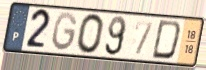2: (23, 8, 54, 51)
7: (133, 20, 153, 56)
9: (103, 14, 128, 58)
D: (150, 19, 183, 62)
G: (51, 10, 79, 53)
O: (75, 12, 106, 56)
